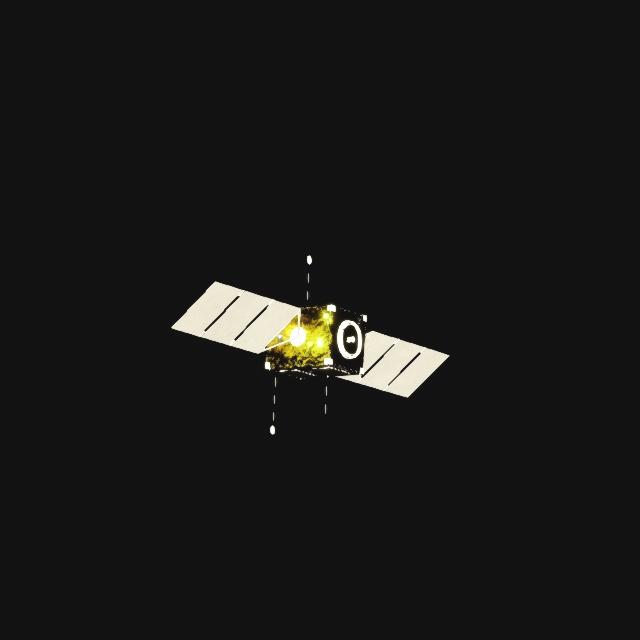satellite: (173, 282, 449, 398)
